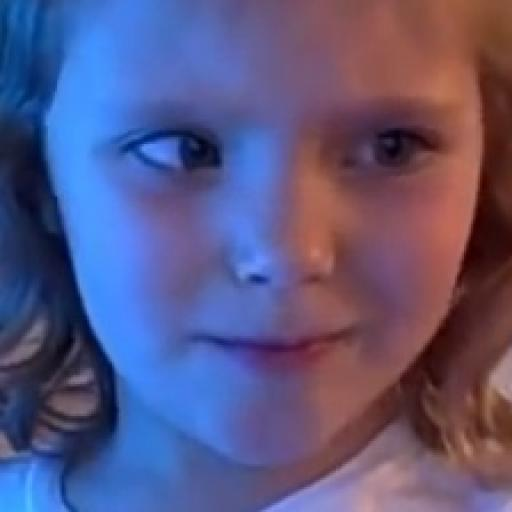Autism: (49, 8, 484, 488)
